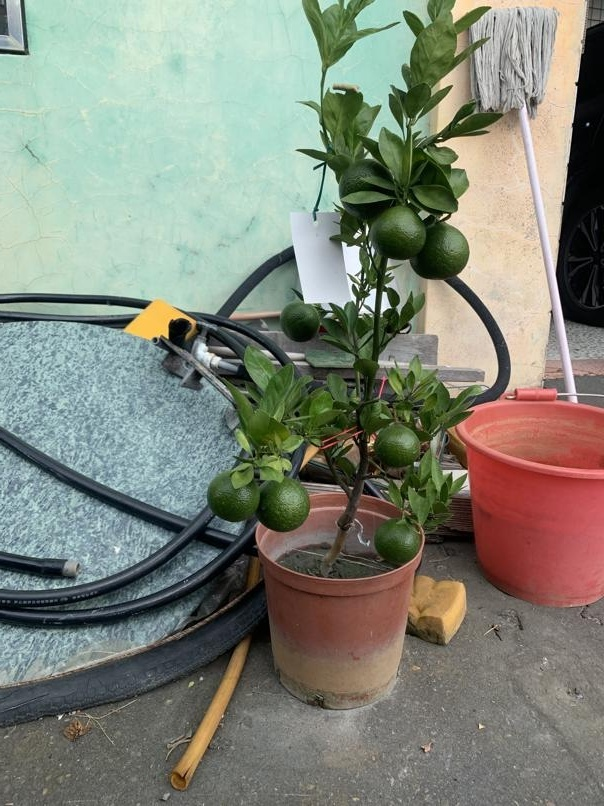Tangerine: (409, 217, 471, 281), (259, 473, 312, 533), (206, 464, 259, 523), (370, 204, 425, 260), (372, 514, 420, 566), (374, 420, 421, 468), (280, 299, 320, 343)
